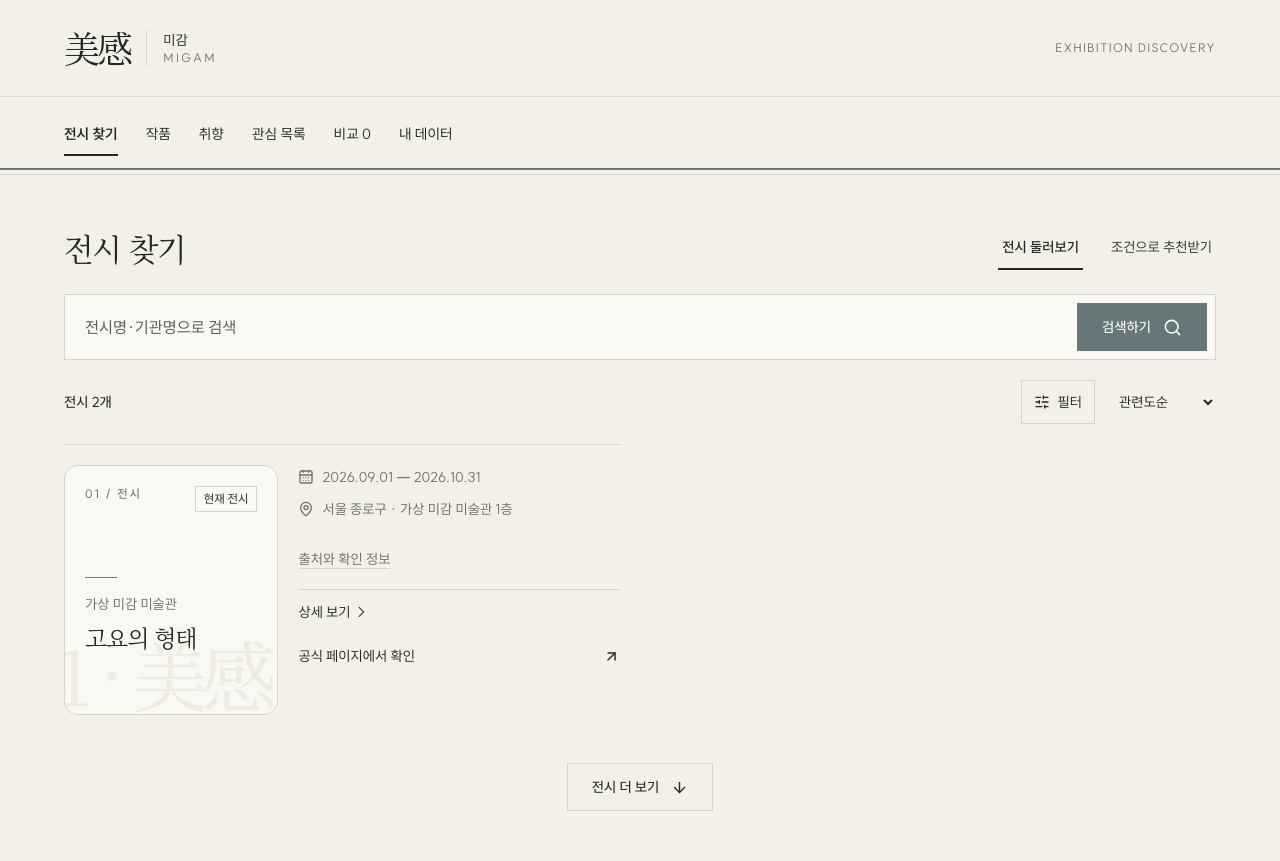
Test: discovery user flows › searches explicitly, appends more results, and replaces pages for a new query
Expected: the heading "고요의 형태" is shown, [85,620,196,654]
Step 1. Click the button "전시 더 보기" → (640, 787), box [567,763,713,811]
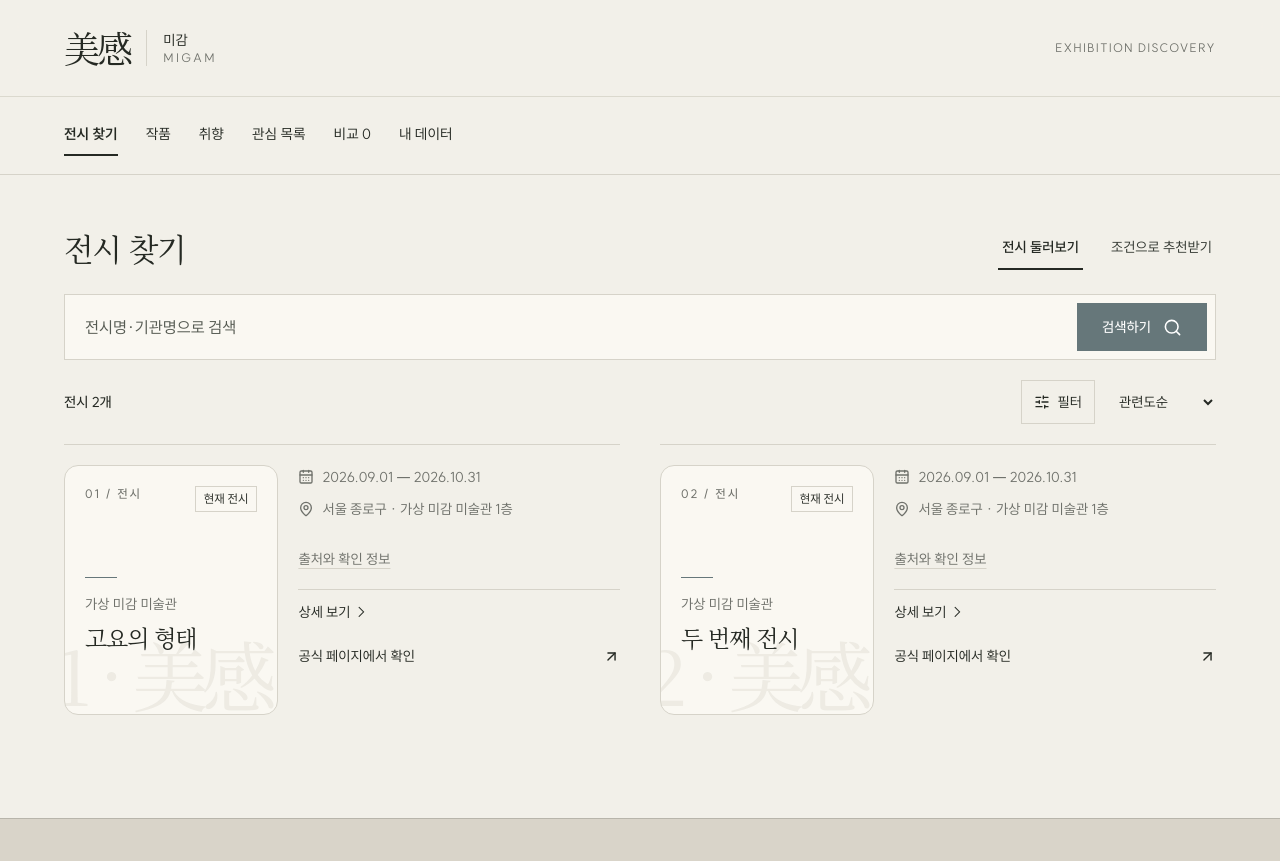
Expected: the heading "두 번째 전시" is shown, [681,620,798,654]
Step 2. Type "다른 전시" into the search field → (575, 327), box [85,303,1065,351]
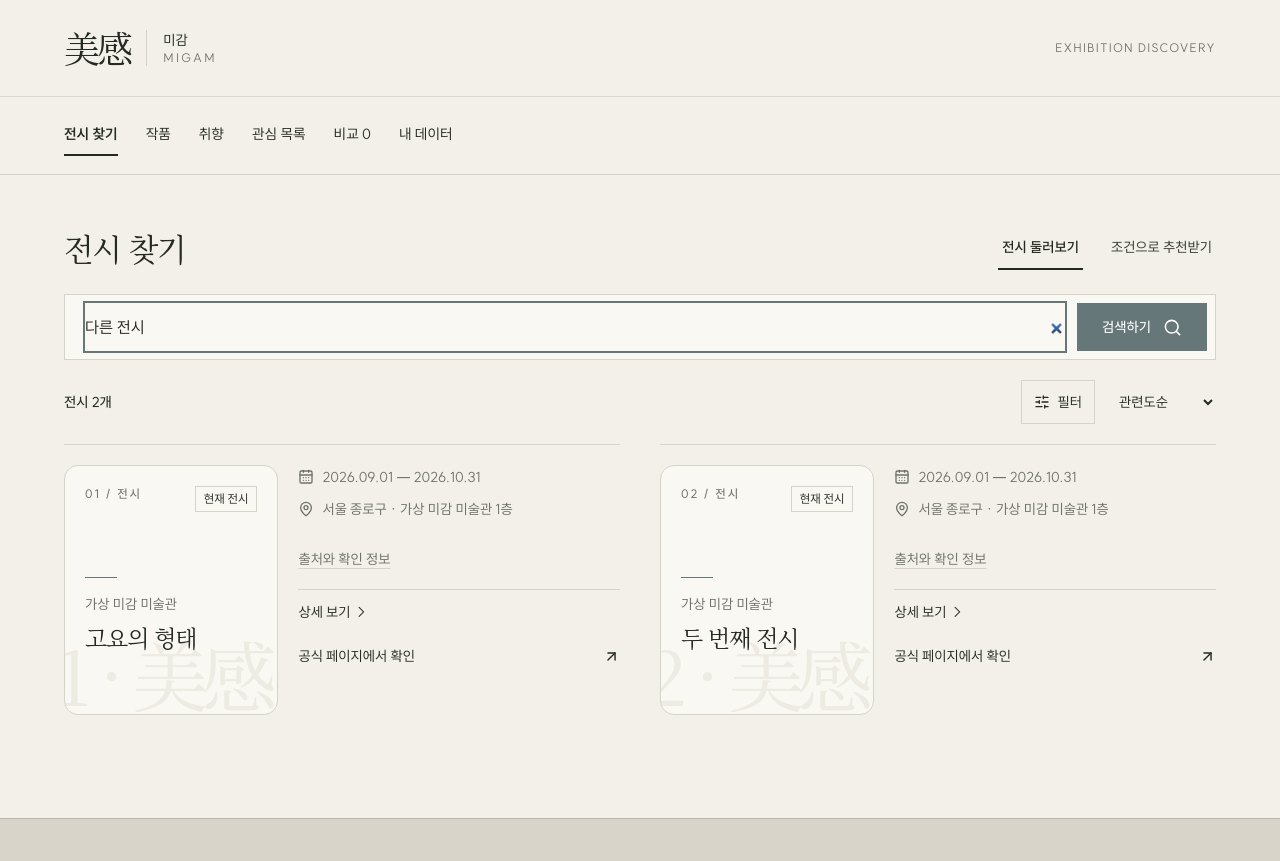
Expected: the heading "두 번째 전시" is shown, [681,620,798,654]
Step 3. Click the button "검색하기" → (1142, 327), box [1077,303,1207,351]
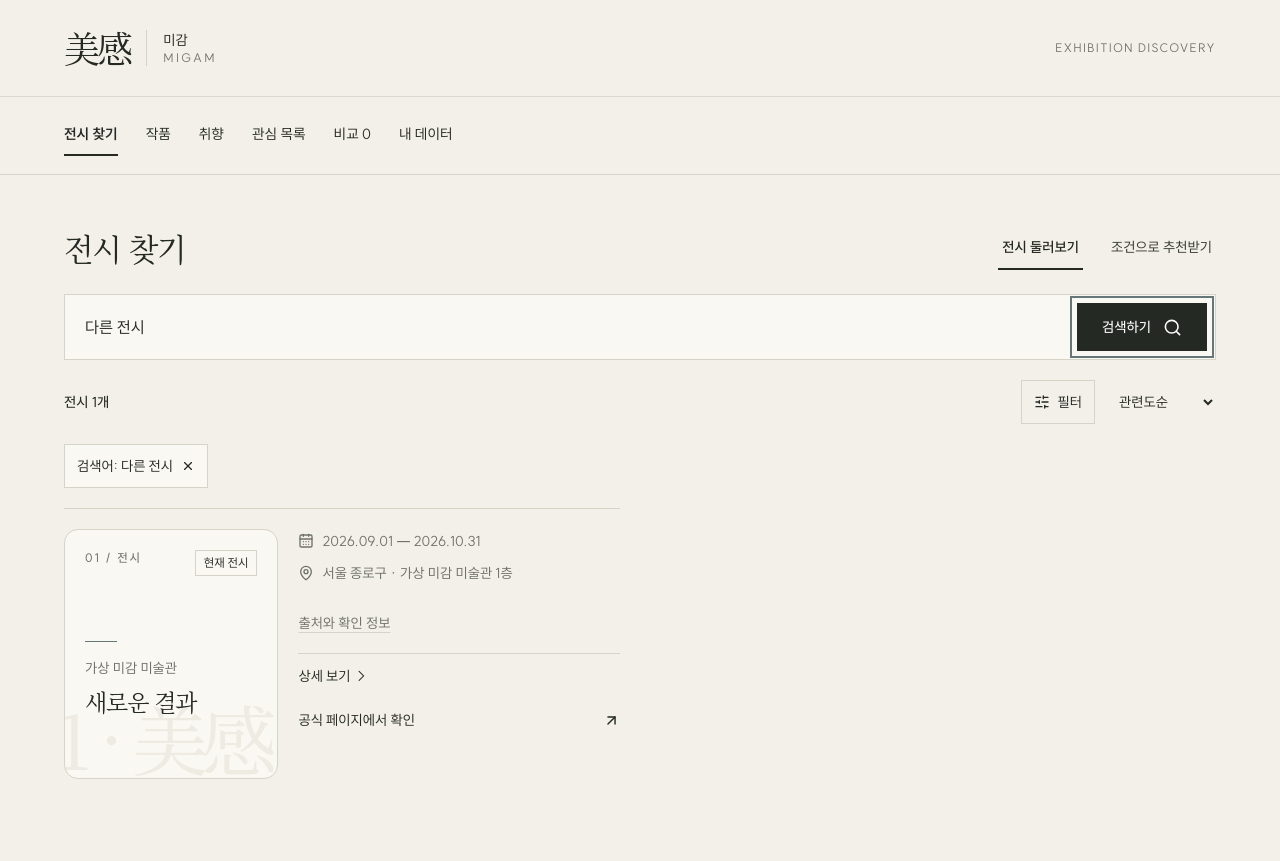
Expected: the heading "새로운 결과" is shown, [85,684,196,718]
Expected: the element named "적용한 검색 조건" shows "다른 전시", [64,444,208,488]
Expected: the heading "두 번째 전시" is gone
